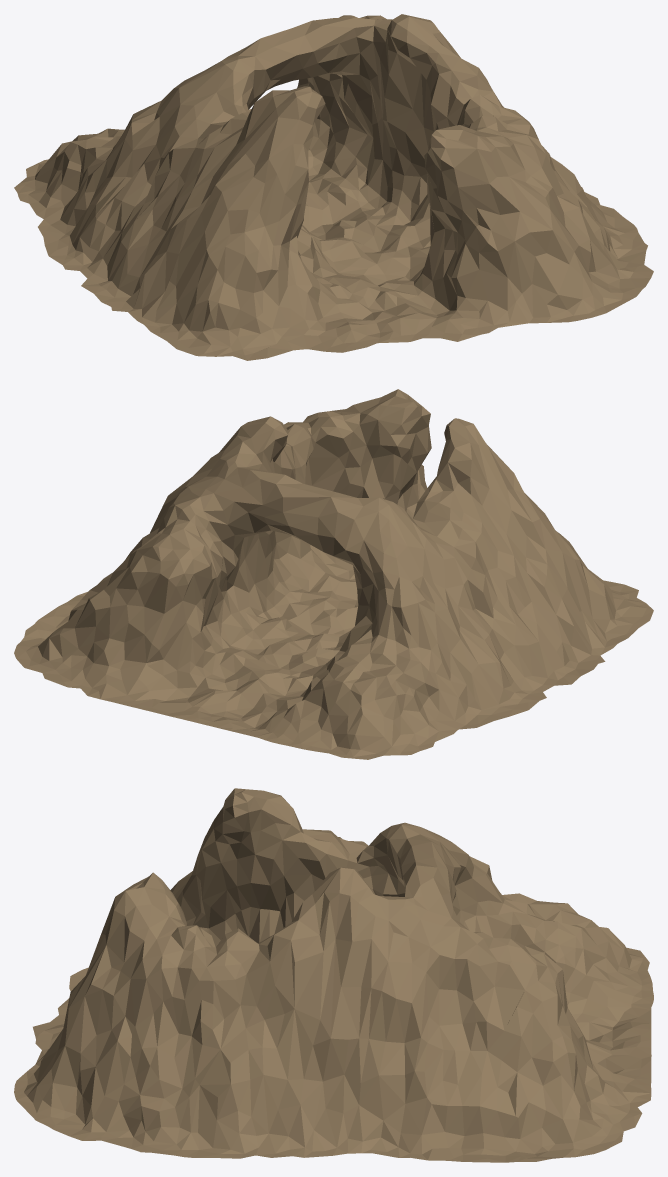
File: LargeTerrain04.fbx
The picture shows the model from 3 angles, top to bottom: view 1: azimuth 30°, elevation 25°; view 2: azimuth 150°, elevation 25°; view 3: azimuth 270°, elevation 25°; orthographic projection. The views are drawn at different scales.
Visible parts, largest first — view 1: LargeTerrain04; view 2: LargeTerrain04; view 3: LargeTerrain04.
Boxes of the visible parts, x1,y1,x2,y2 form: LargeTerrain04: (14,14,653,360); LargeTerrain04: (14,389,653,759); LargeTerrain04: (14,788,653,1162).
Size of the model in its own units: 85.02 by 34.17 by 90.5.
